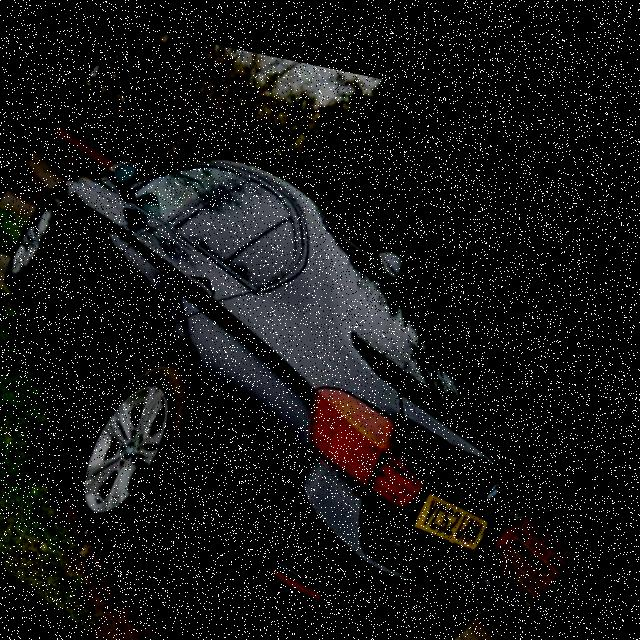license_plate: (414, 458, 506, 549)
